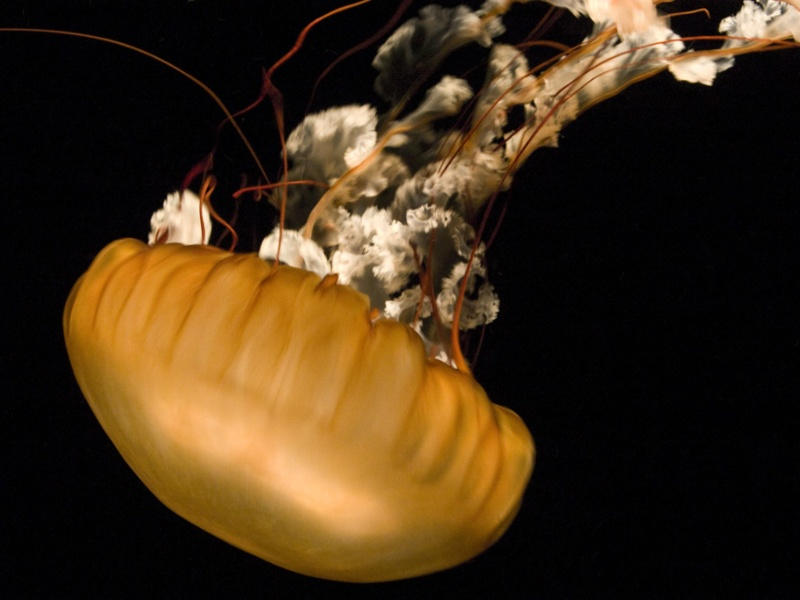Jellyfish: (46, 162, 558, 571)
